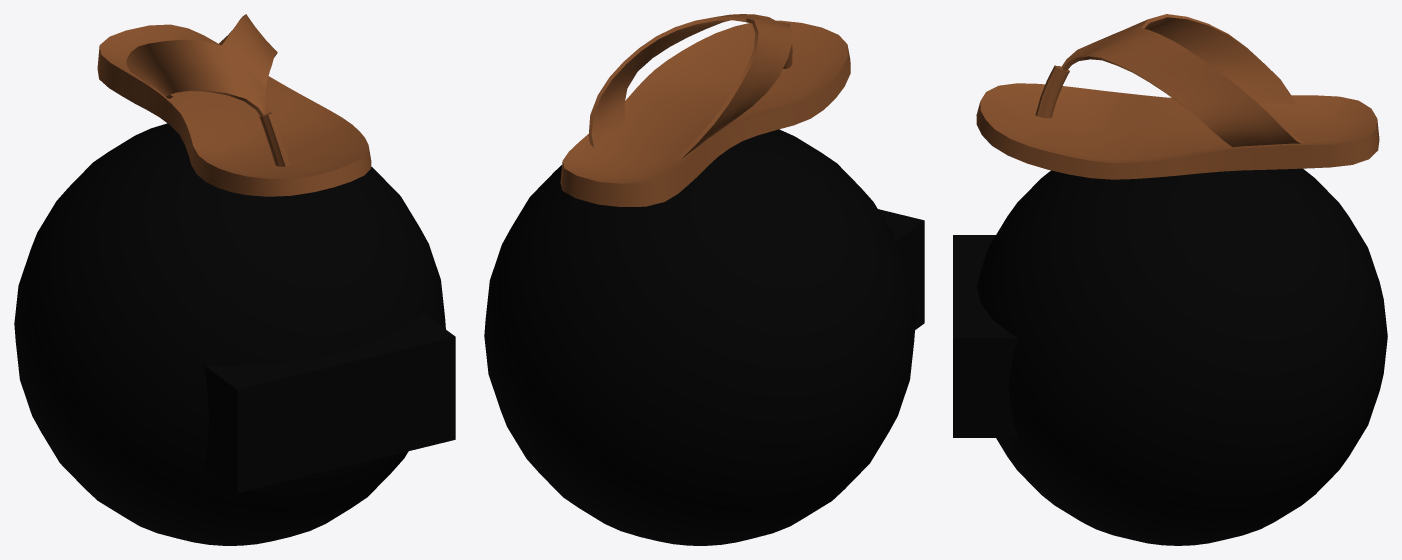
The model's file is wear_sandal.obj.
3 views of the same model, side by side, from view 1: azimuth 30°, elevation 25°; view 2: azimuth 150°, elevation 25°; view 3: azimuth 270°, elevation 25° (orthographic). The views are drawn at different scales.
Visible parts, largest first — view 1: wear_sandal; view 2: wear_sandal; view 3: wear_sandal.
Boxes of the visible parts, <box> form: wear_sandal: <box>14,14,455,545</box>; wear_sandal: <box>484,14,924,545</box>; wear_sandal: <box>953,14,1387,545</box>.
Size of the model in its own units: 2 by 2.57 by 2.07.
Materials: 1 (1 with a texture image).
